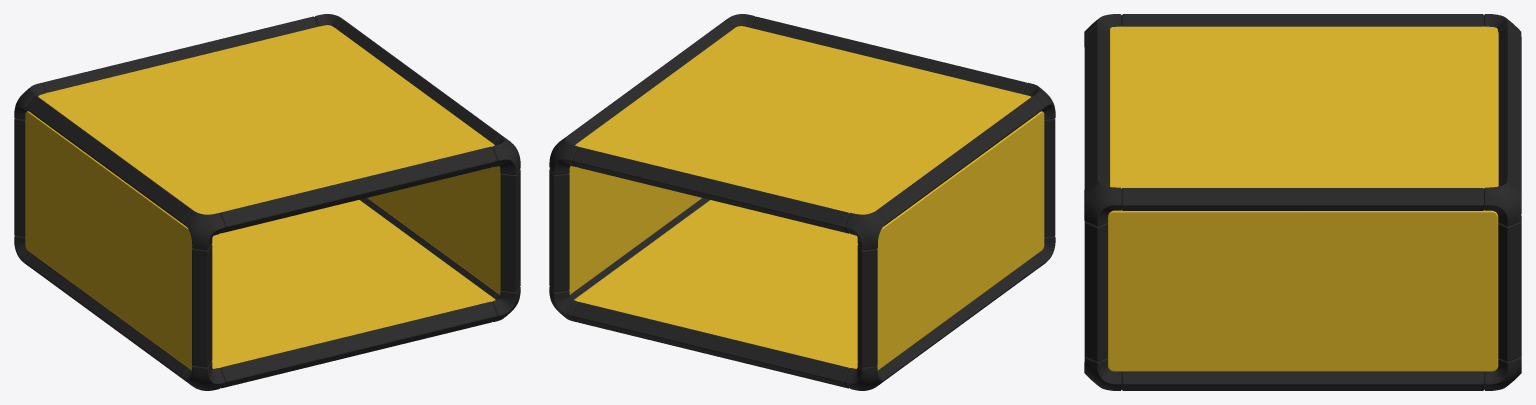
3 renders of one model, left to right at view 1: azimuth 30°, elevation 25°; view 2: azimuth 150°, elevation 25°; view 3: azimuth 270°, elevation 25°, orthographic. The views are drawn at different scales.
Parts seen in each view (by area): view 1: 374x374x154; view 2: 374x374x154; view 3: 374x374x154.
Boxes of the visible parts, x1,y1,x2,y2 form: 374x374x154: (14,14,520,390); 374x374x154: (549,14,1055,390); 374x374x154: (1084,14,1521,390).
Bounding box in the file's own units: 0.4517 × 0.2316 × 0.4513.
